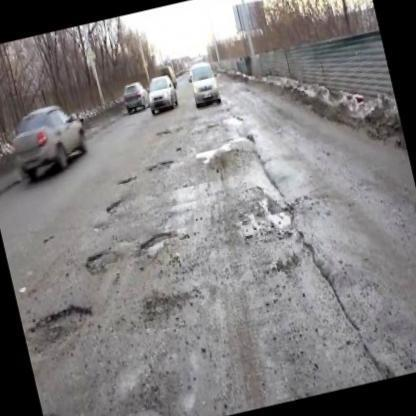pothole: (28, 304, 96, 345), (237, 207, 299, 242), (138, 231, 176, 262), (86, 250, 108, 276), (105, 198, 122, 216)
